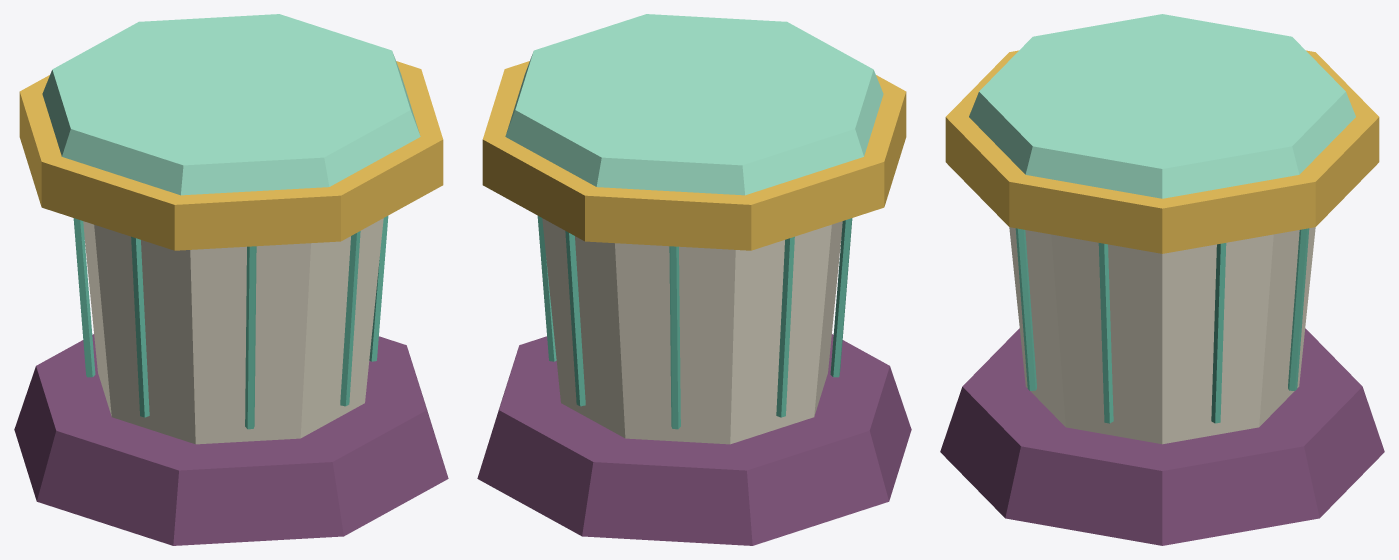
Rendered from pedestal.glb.
3 renders of one model, left to right at view 1: azimuth 30°, elevation 25°; view 2: azimuth 150°, elevation 25°; view 3: azimuth 270°, elevation 25°, orthographic.
Visible parts, largest first — view 1: pedestal; view 2: pedestal; view 3: pedestal.
Boxes of the visible parts, x1,y1,x2,y2 form: pedestal: [14, 14, 448, 545]; pedestal: [477, 14, 911, 545]; pedestal: [940, 14, 1384, 545].
Bounding box in the file's own units: 0.805 × 0.72 × 0.805.
